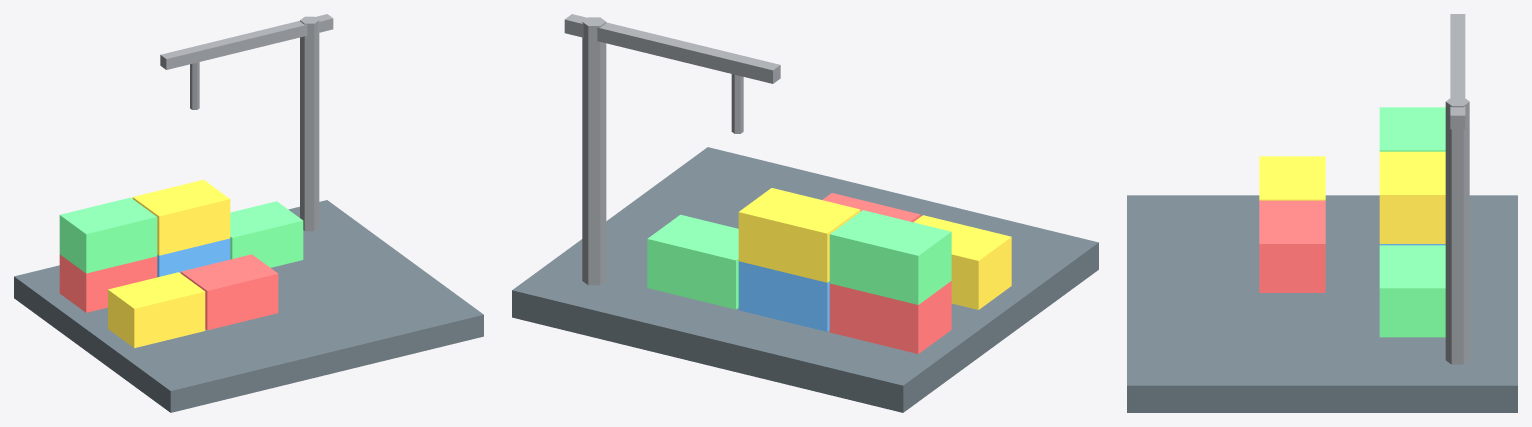
3 views of the same model, side by side, from view 1: azimuth 30°, elevation 25°; view 2: azimuth 150°, elevation 25°; view 3: azimuth 270°, elevation 25° (orthographic). The views are drawn at different scales.
Visible parts, largest first — view 1: export; view 2: export; view 3: export.
Part boxes in pixels (x1=…): export: x1=14, y1=14, x2=483, y2=412; export: x1=512, y1=14, x2=1098, y2=412; export: x1=1127, y1=14, x2=1517, y2=412.
Size of the model in its own units: 1.5 by 1.05 by 1.3.
